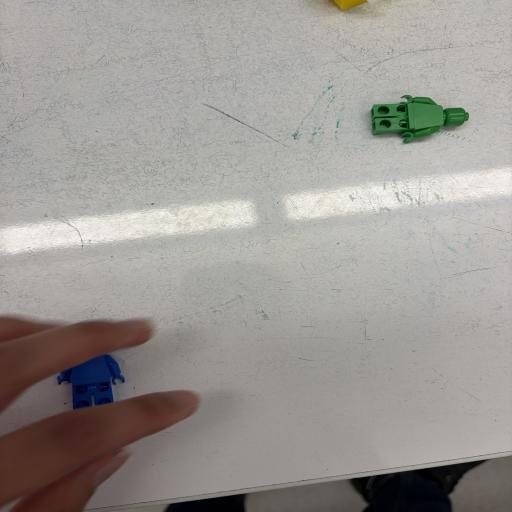Blue-Lego: (57, 354, 125, 409)
Green-Lego: (370, 95, 469, 143)
